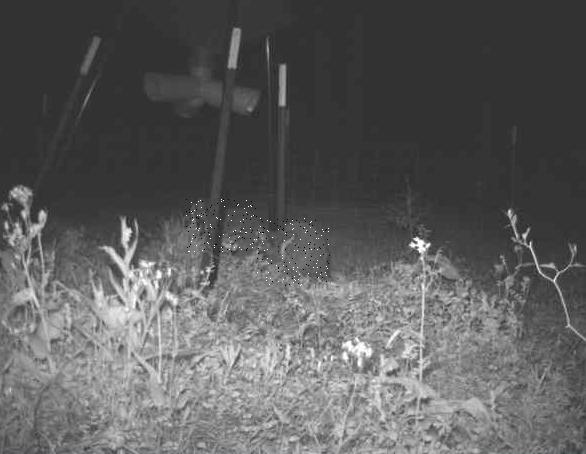Raccoon: (257, 219, 330, 287), (185, 199, 257, 253)
